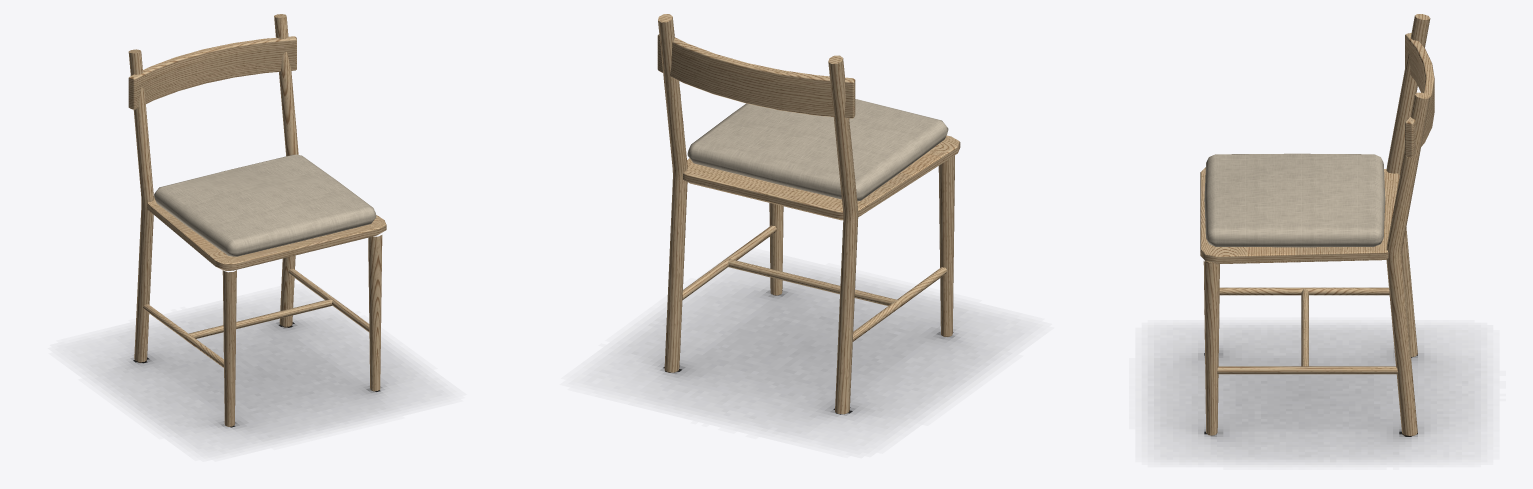
The model's file is dining_chair.glb.
3 renders of one model, left to right at view 1: azimuth 30°, elevation 25°; view 2: azimuth 150°, elevation 25°; view 3: azimuth 270°, elevation 25°, orthographic. The views are drawn at different scales.
Visible parts, largest first — view 1: dining_chair_LOD0, dining_chair_Shadow; view 2: dining_chair_LOD0, dining_chair_Shadow; view 3: dining_chair_LOD0, dining_chair_Shadow.
Boxes of the visible parts, x1,y1,x2,y2 form: dining_chair_LOD0: (128,14,386,426); dining_chair_Shadow: (98,307,417,441); dining_chair_LOD0: (657,14,960,414); dining_chair_Shadow: (623,274,997,432); dining_chair_LOD0: (1200,14,1434,435); dining_chair_Shadow: (1154,327,1474,459).
Size of what is drawn, in the model's own units: 0.8257 by 0.8042 by 0.863.
3 materials, 3 textured.
